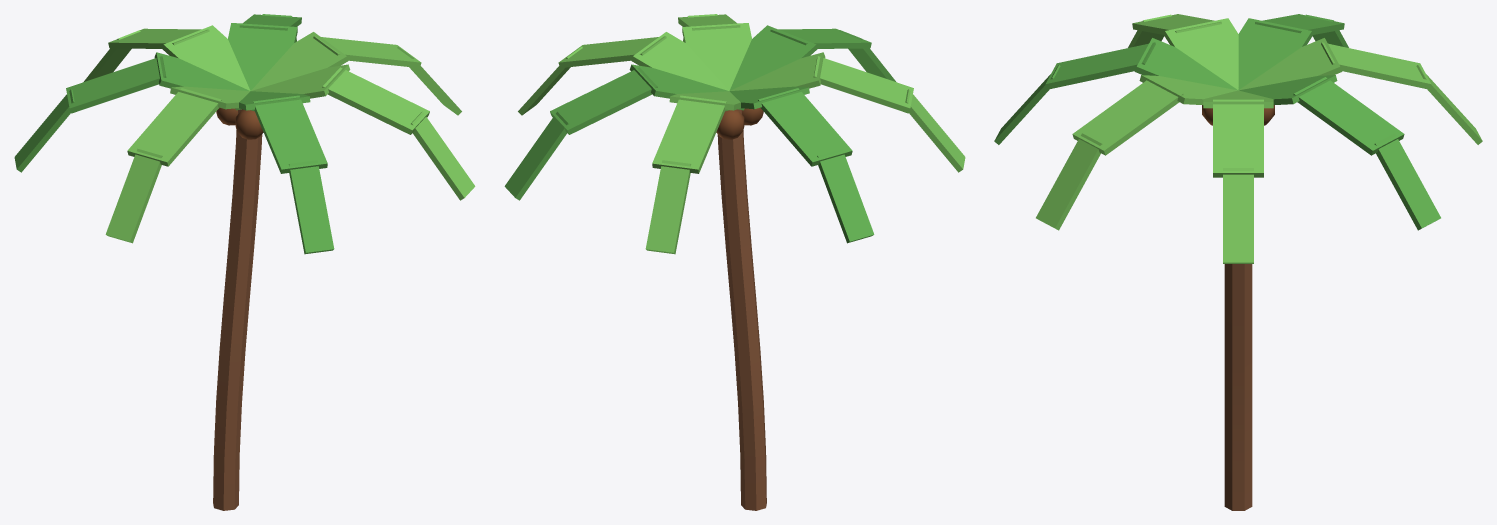
Rendered from tree_c.glb.
3 views of the same model, side by side, from view 1: azimuth 30°, elevation 25°; view 2: azimuth 150°, elevation 25°; view 3: azimuth 270°, elevation 25° (orthographic). The views are drawn at different scales.
Parts seen in each view (by area): view 1: tree_c; view 2: tree_c; view 3: tree_c.
Boxes of the visible parts, bbox=[...] form: tree_c: bbox=[14, 14, 475, 510]; tree_c: bbox=[504, 14, 965, 510]; tree_c: bbox=[994, 14, 1482, 510].
Size of the model in its own units: 6.1 by 6.46 by 6.25.
